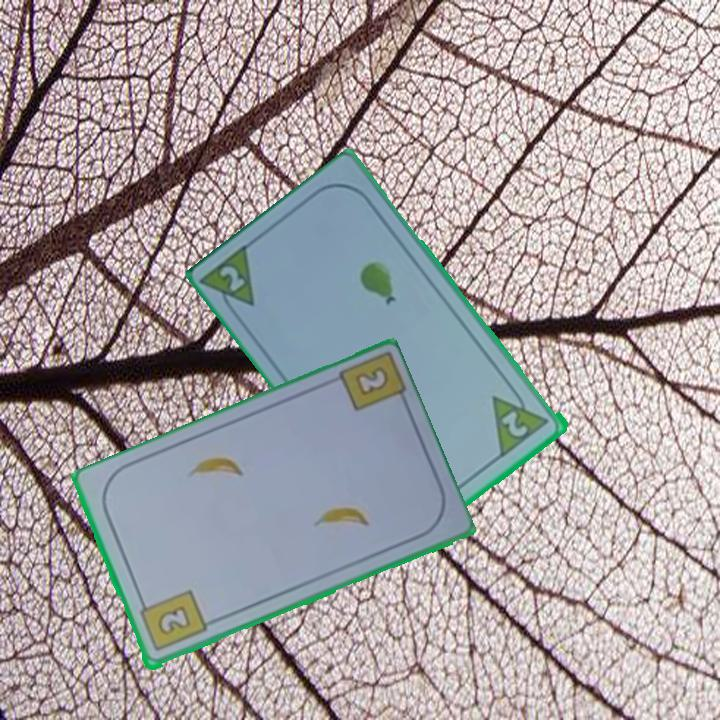2b: (135, 587, 209, 655), (355, 366, 389, 396)
2p: (488, 381, 553, 459), (200, 240, 259, 323)
